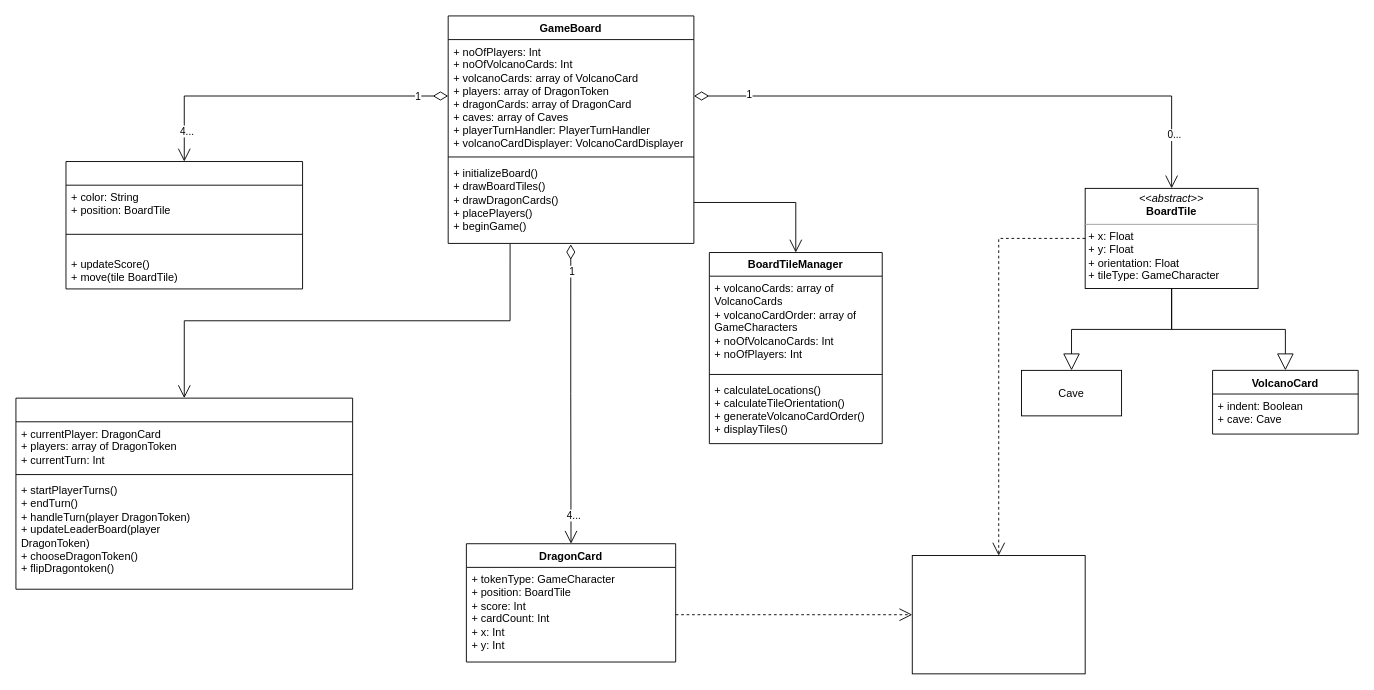
This 1374x690 diagram has some shape labels left out. Each missing label, with the box of its shape:
<<enumeration>> GameCharacters BabyDragon Spider Bat Salmander PirateDragon: (911, 555, 1085, 674)
DragonTokens: (65, 161, 303, 289)
PlayerTurnHandler: (15, 397, 353, 589)
